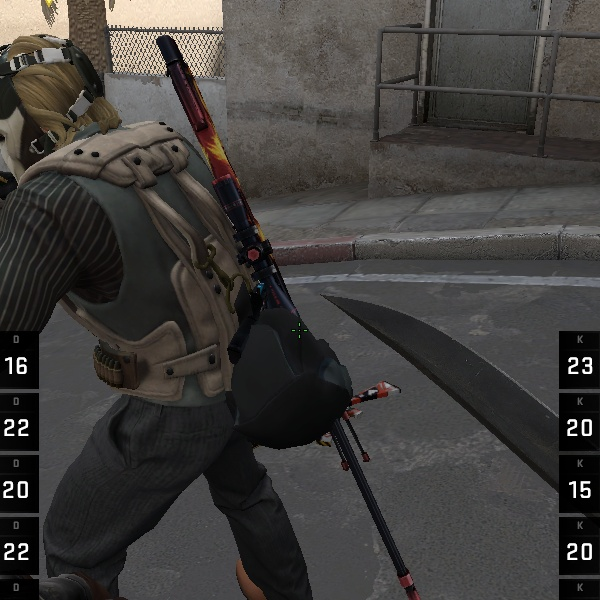t_body: (0, 17, 389, 600)
